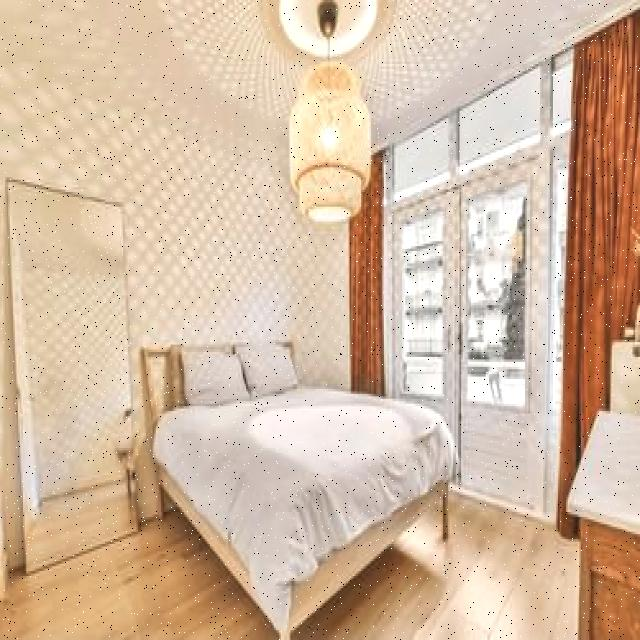bed: (143, 339, 458, 587)
